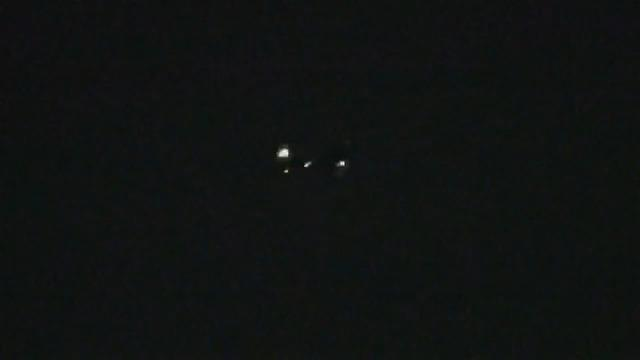Plane: (259, 133, 322, 183)
